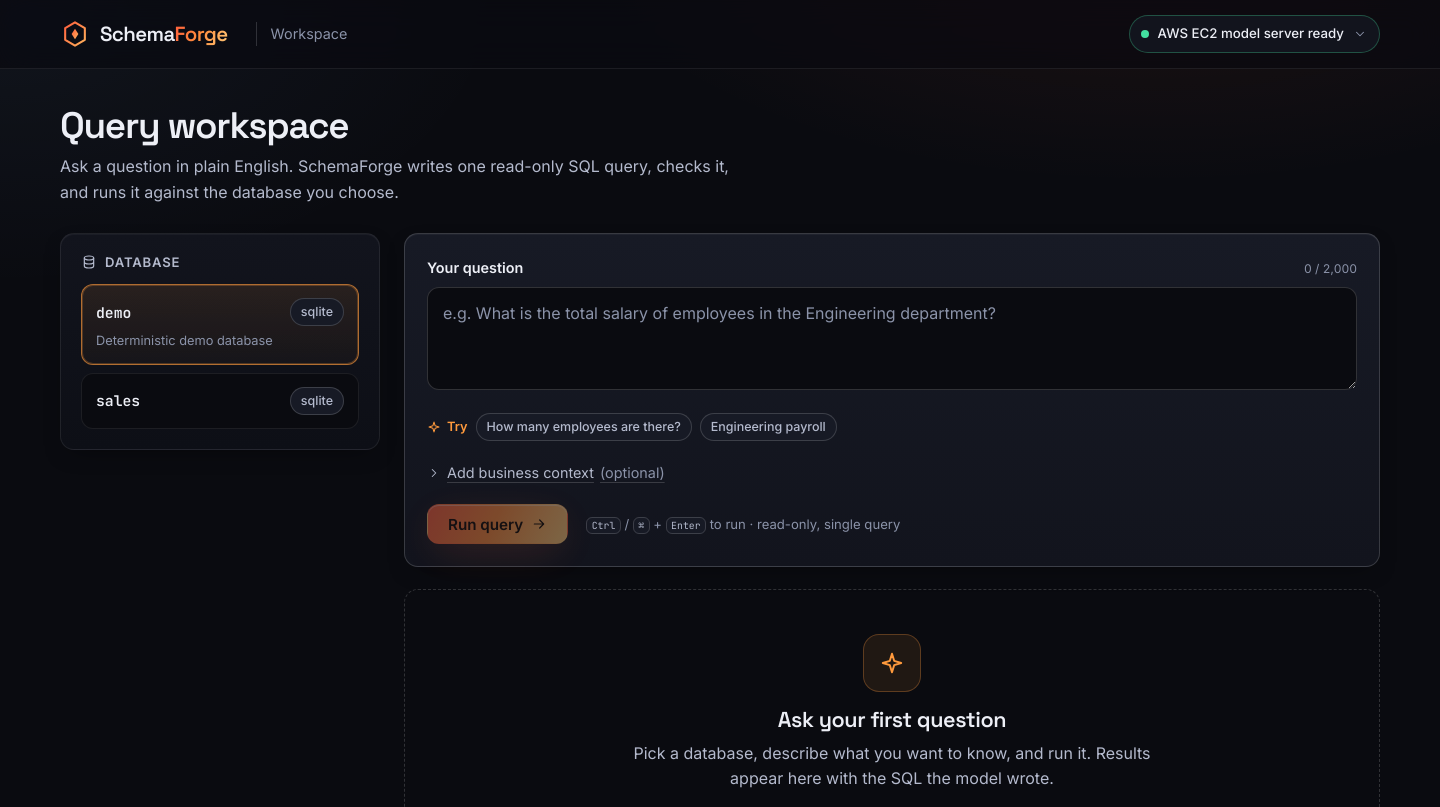
Scenario: Reliability states are distinct and honest › does not attach the trust note to failures
The width and height of the screenshot is (1440, 807).
expect the radio button labelled "demo sqlite Deterministic demo database" is shown: met, box [81,284,359,365]
Type "How many employees are there?" into the text box labelled "Your question".
click(892, 339); type("How many employees are there?")  # box [427,287,1357,390]
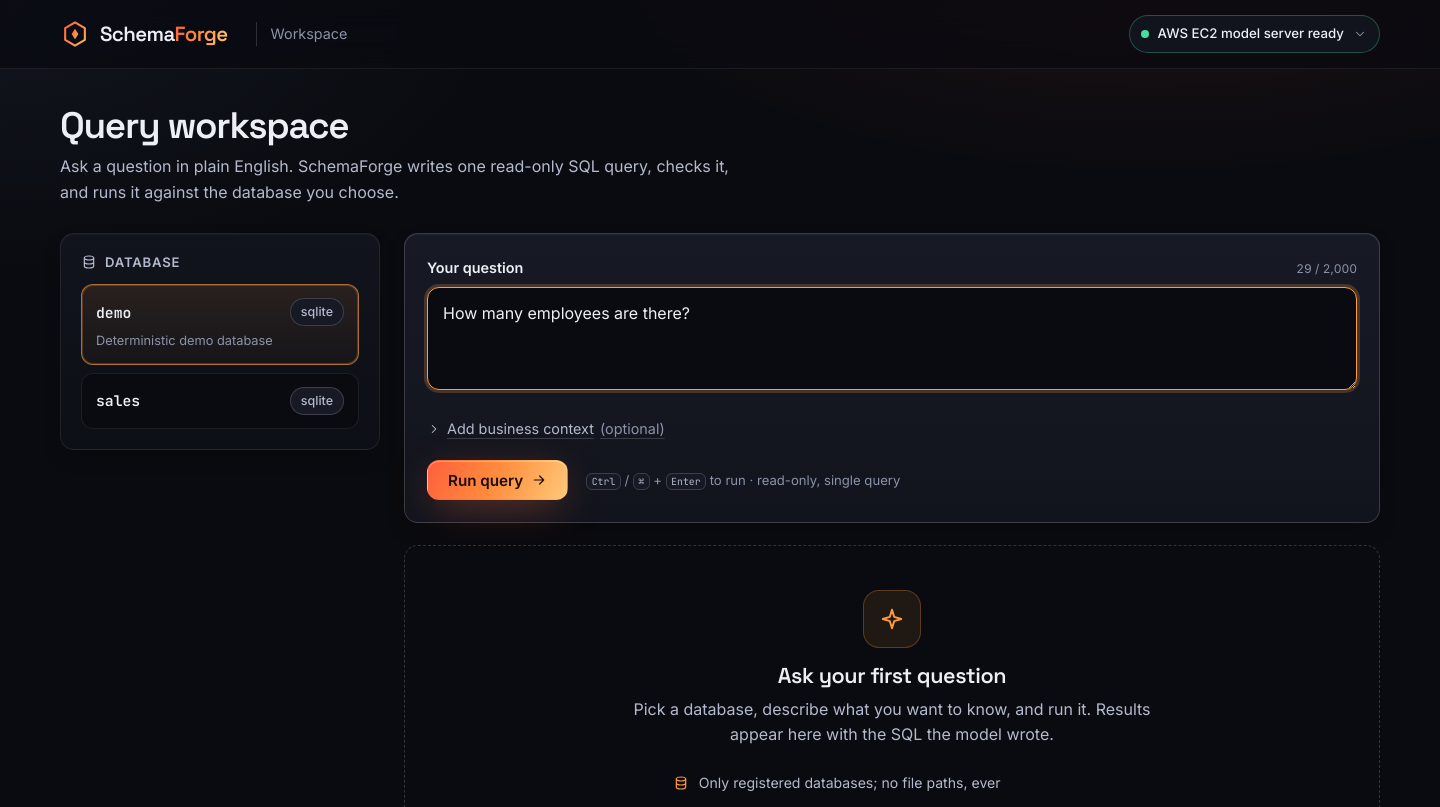
Click the button "Run query".
click(498, 480)  # box [427,460,568,500]
(page scrolled)
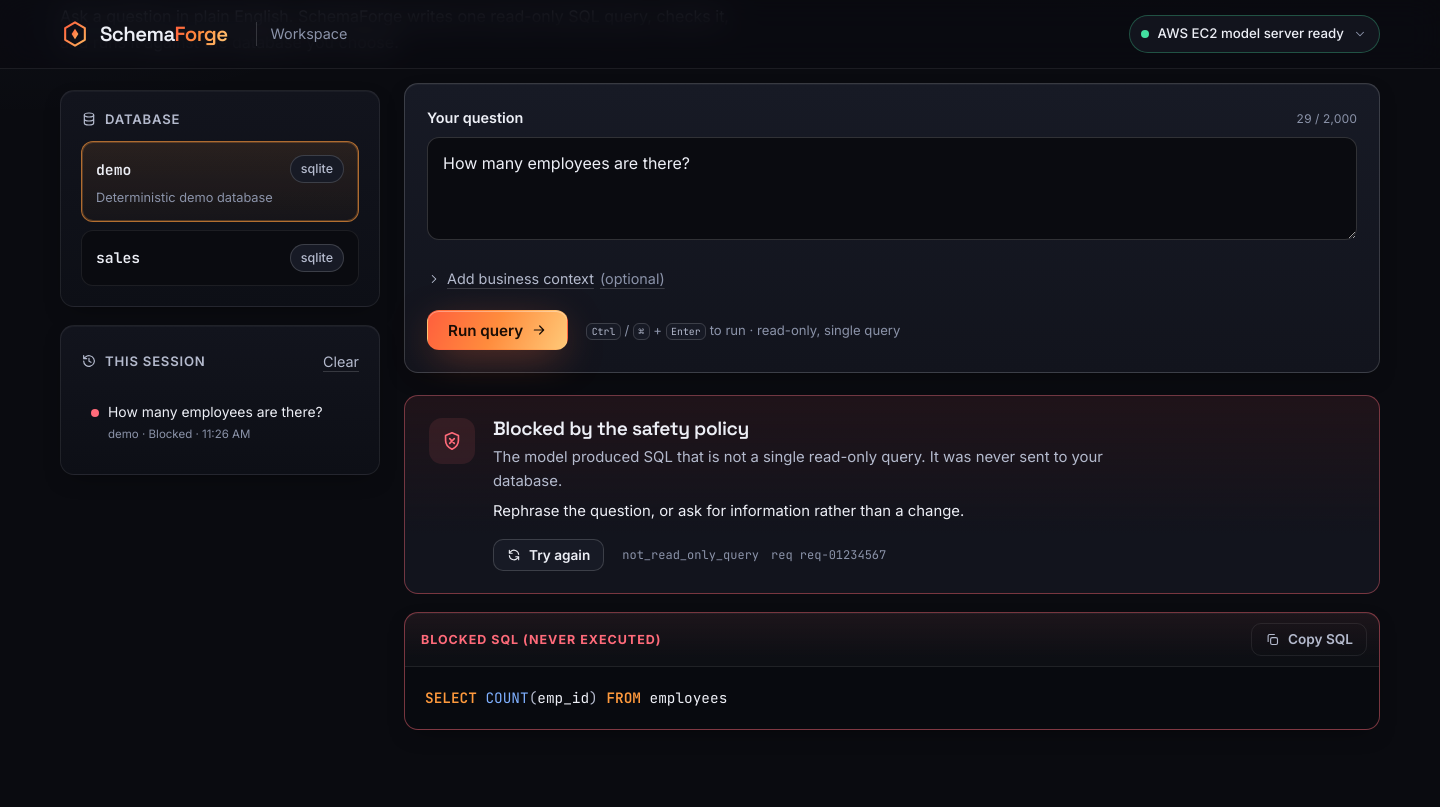
expect the message is shown: met, box [404,396,1380,594]
